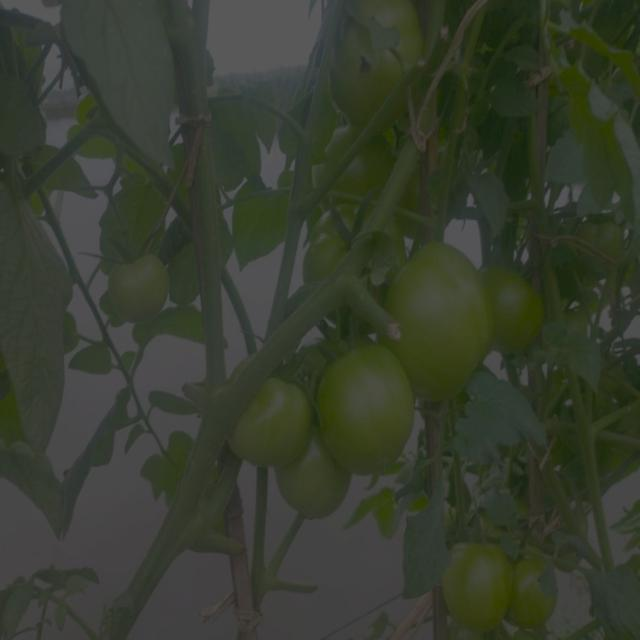tomato: (383, 237, 493, 398), (320, 338, 423, 476), (320, 1, 425, 112), (235, 377, 311, 476), (440, 534, 517, 631), (474, 258, 548, 351), (302, 201, 370, 279), (105, 249, 174, 325), (508, 539, 565, 630), (283, 449, 350, 516)
